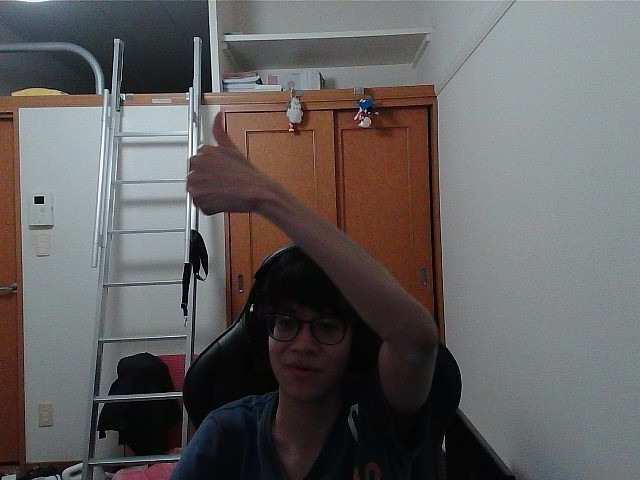thumb_up: (192, 120, 242, 203)
